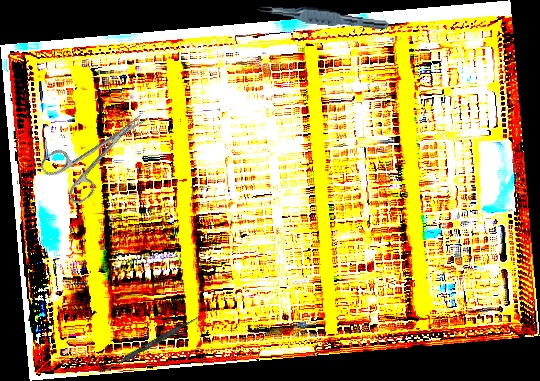Iris Scissors: (37, 96, 162, 210)
Spatula Surgical: (98, 311, 203, 378)
Tissue Forceps: (256, 2, 390, 31)
